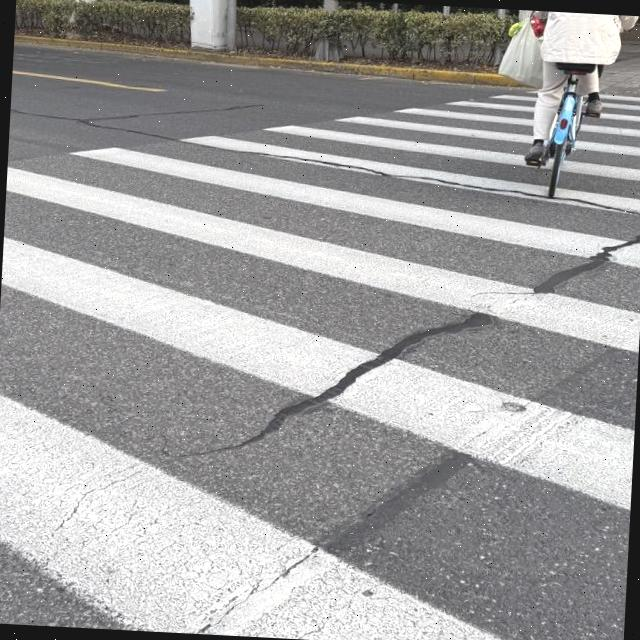curb: (14, 34, 519, 86)
